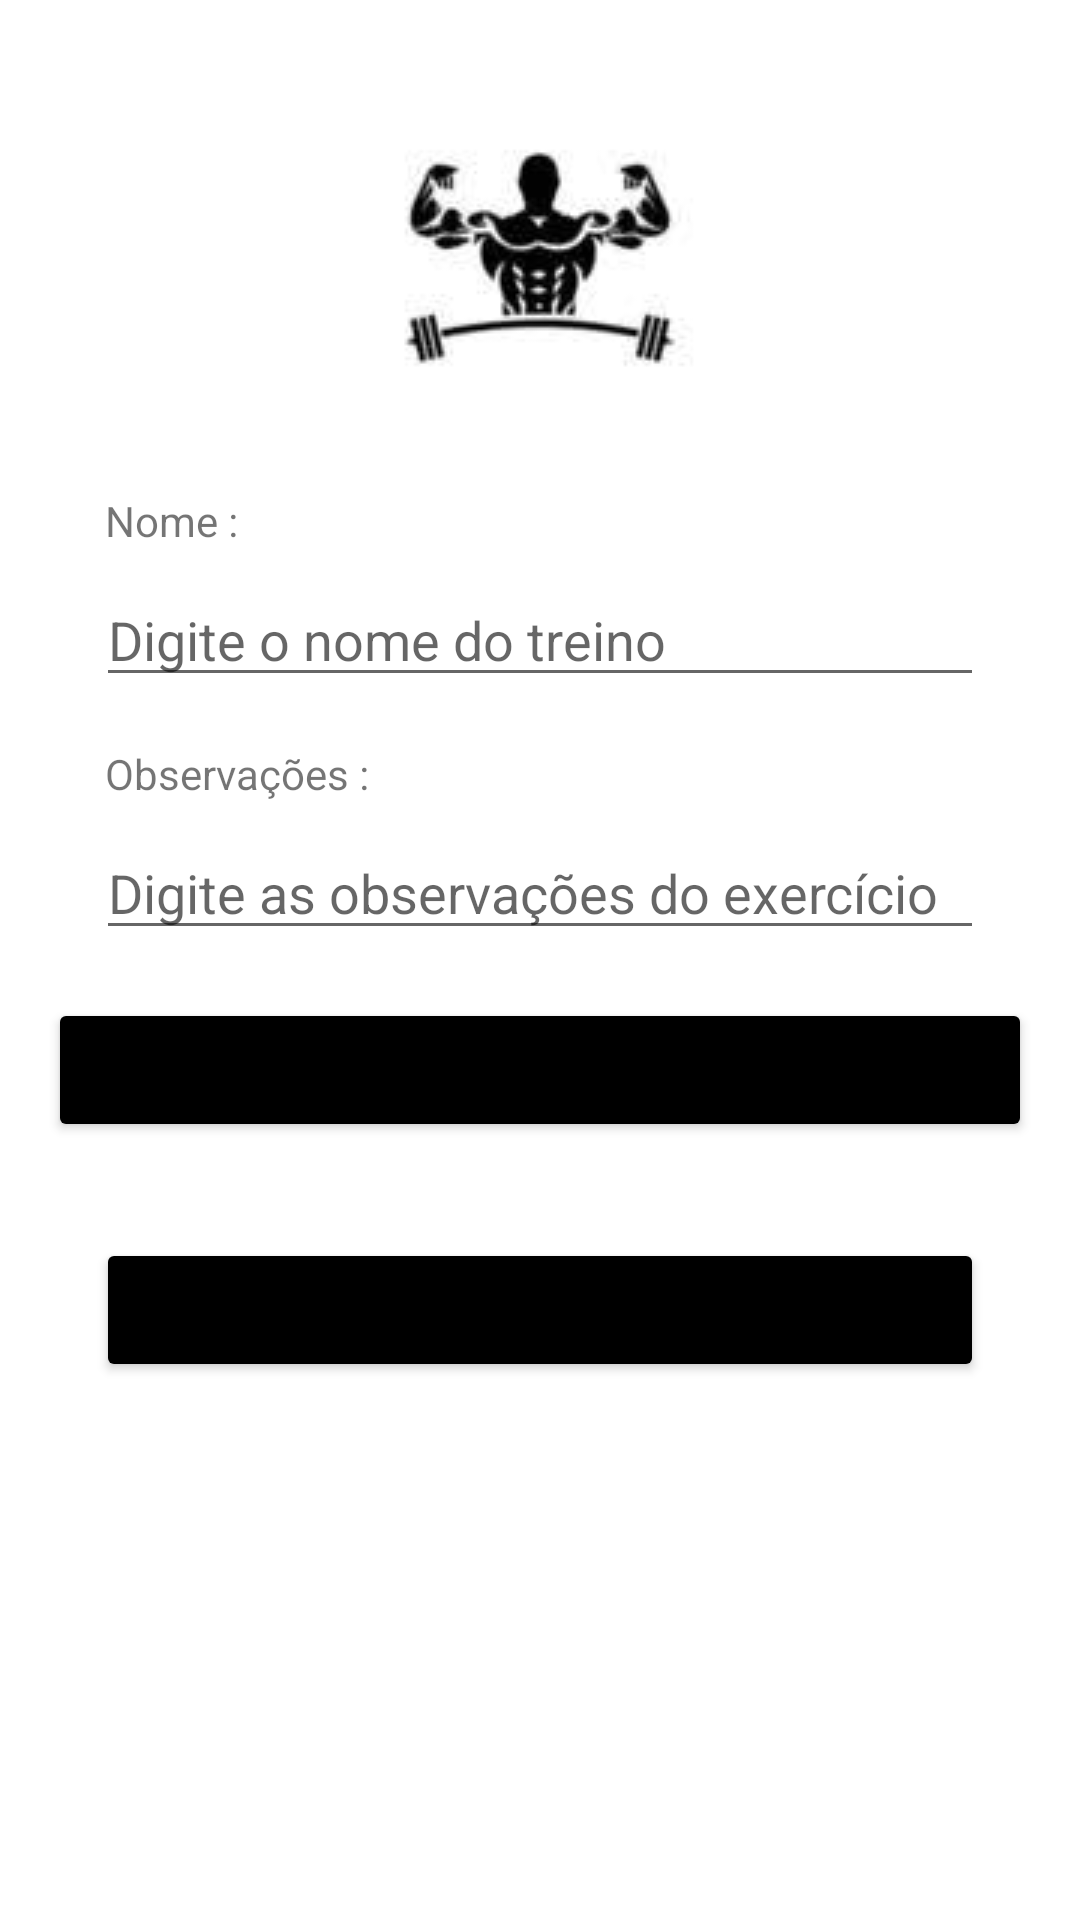

Icons on this 1080x1920 Android screen, each with the point to tap as (x=x, y=y):
academy: (x=540, y=258)
